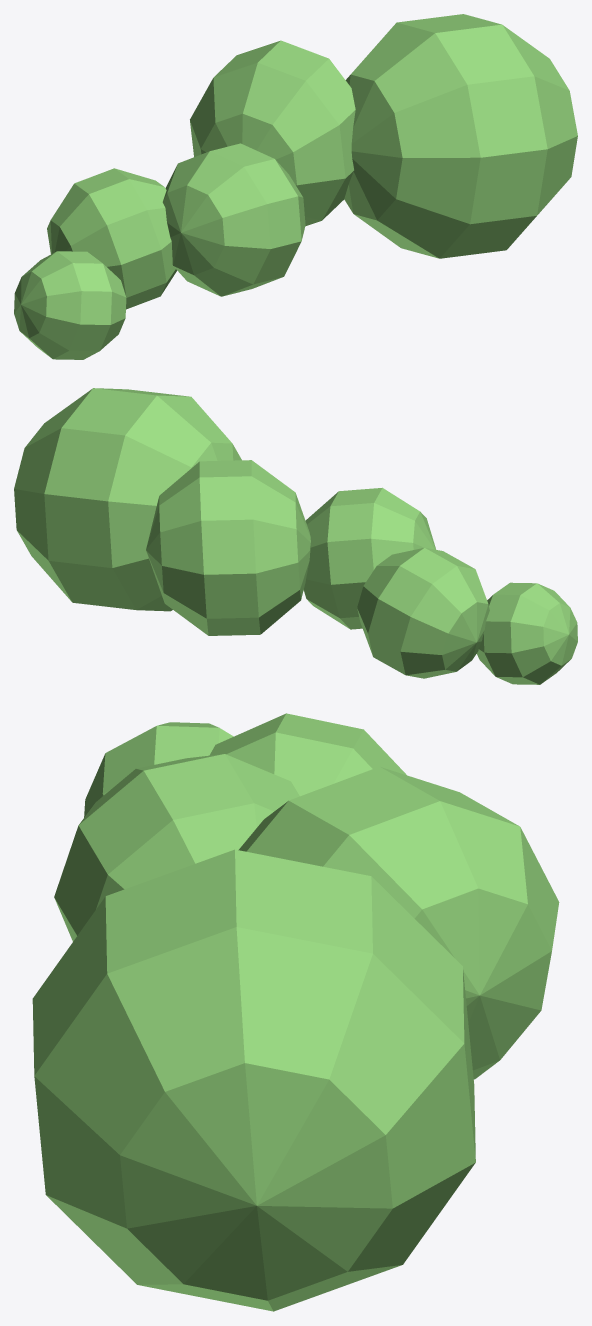
File: bushes_15_world_ap_0_lev1.glb
3 renders of one model, top to bottom at view 1: azimuth 30°, elevation 25°; view 2: azimuth 150°, elevation 25°; view 3: azimuth 270°, elevation 25°, orthographic. The views are drawn at different scales.
Visible parts, largest first — view 1: bushes_15_world_ap_0_lev1; view 2: bushes_15_world_ap_0_lev1; view 3: bushes_15_world_ap_0_lev1.
Boxes of the visible parts, x1,y1,x2,y2 form: bushes_15_world_ap_0_lev1: [14, 14, 577, 359]; bushes_15_world_ap_0_lev1: [14, 388, 577, 684]; bushes_15_world_ap_0_lev1: [32, 713, 559, 1311].
Bounding box in the file's own units: 1.18 × 0.4546 × 0.5133.
1 material, 1 textured.
